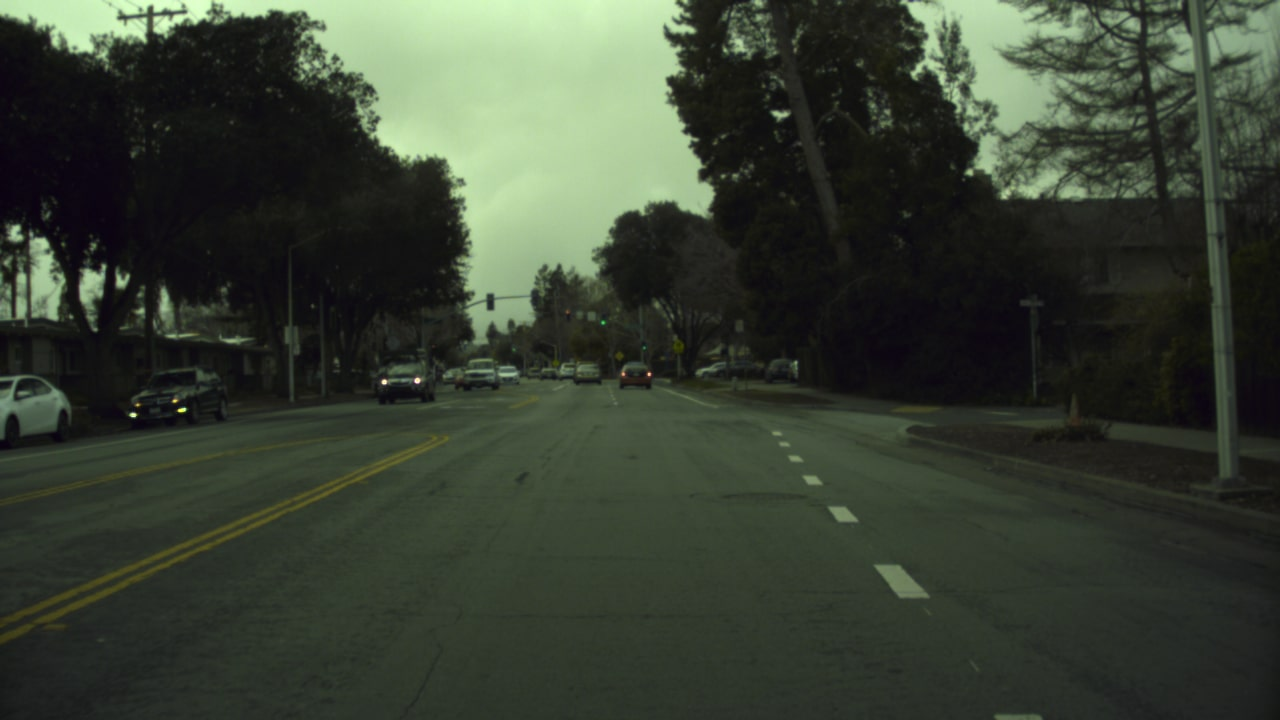signal: (596, 315, 608, 335), (562, 305, 569, 322), (639, 340, 645, 352)
